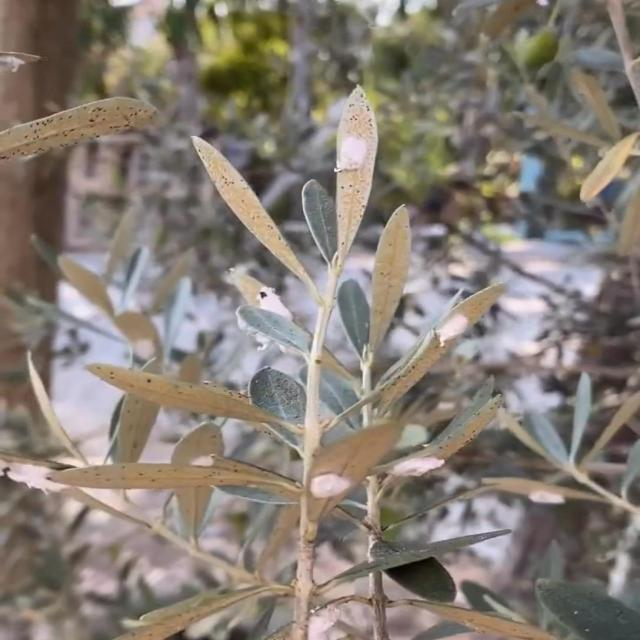Psyllid: (0, 453, 70, 495), (236, 275, 291, 322), (308, 472, 356, 518), (434, 305, 484, 346), (335, 132, 376, 182), (386, 456, 445, 486), (308, 604, 340, 640)
